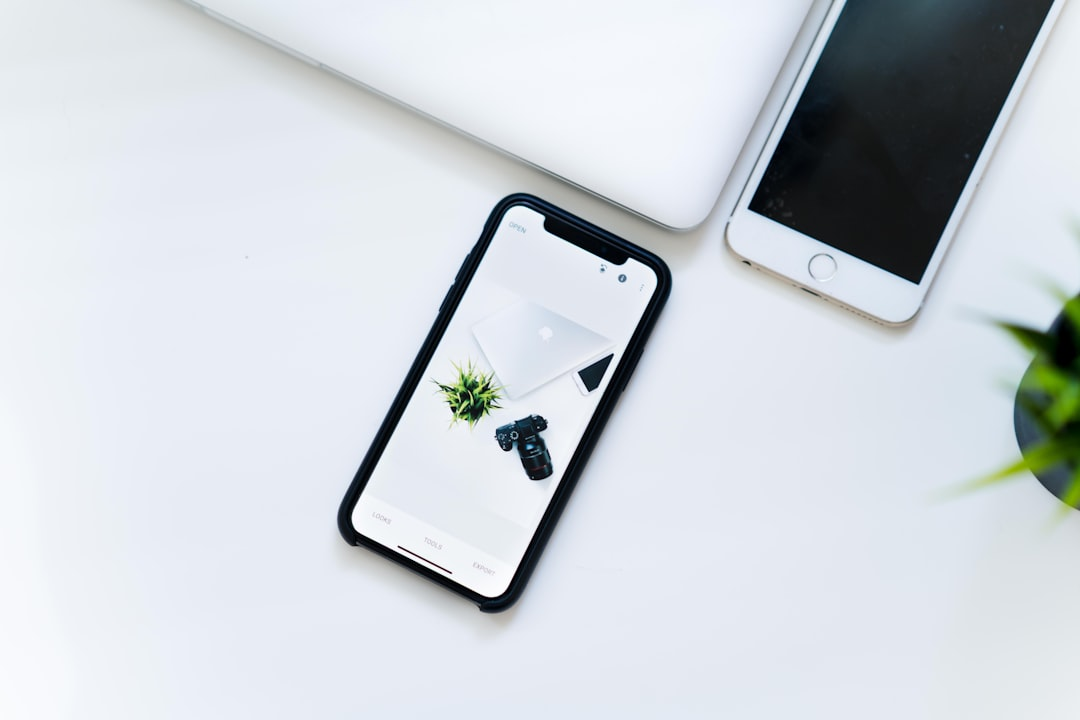phone: (338, 192, 673, 615)
